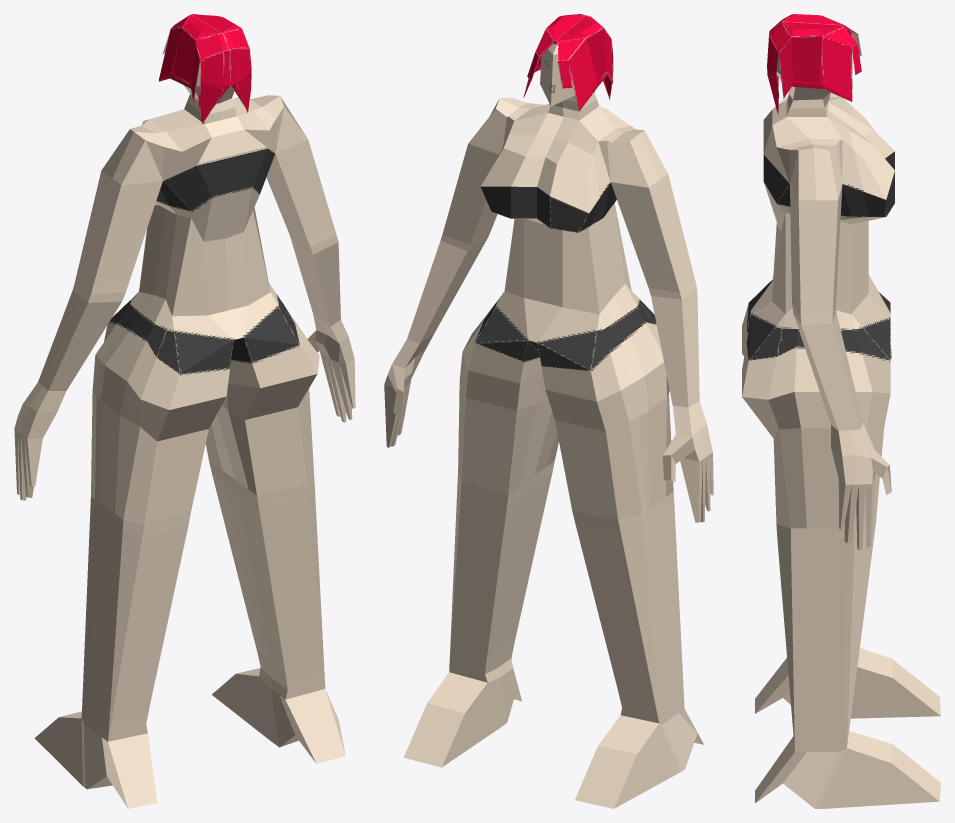
Rendered from whatamidoing.gltf.
The picture shows the model from 3 angles, left to right: view 1: azimuth 30°, elevation 25°; view 2: azimuth 150°, elevation 25°; view 3: azimuth 270°, elevation 25°; orthographic projection. The views are drawn at different scales.
Parts seen in each view (by area): view 1: mesh; view 2: mesh; view 3: mesh.
Boxes of the visible parts, left/top/right/bottom form: mesh: left=14, top=14, right=355, bottom=808; mesh: left=384, top=14, right=713, bottom=808; mesh: left=742, top=14, right=940, bottom=808.
Size of the model in its own units: 1.33 by 2.87 by 0.7093.
1 material, 1 textured.
